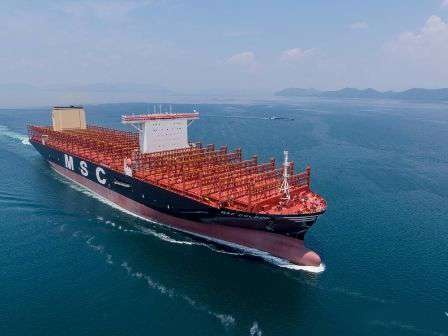Cargoship: (19, 103, 329, 269)
